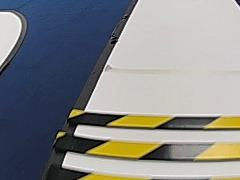bump: (57, 106, 240, 168)
